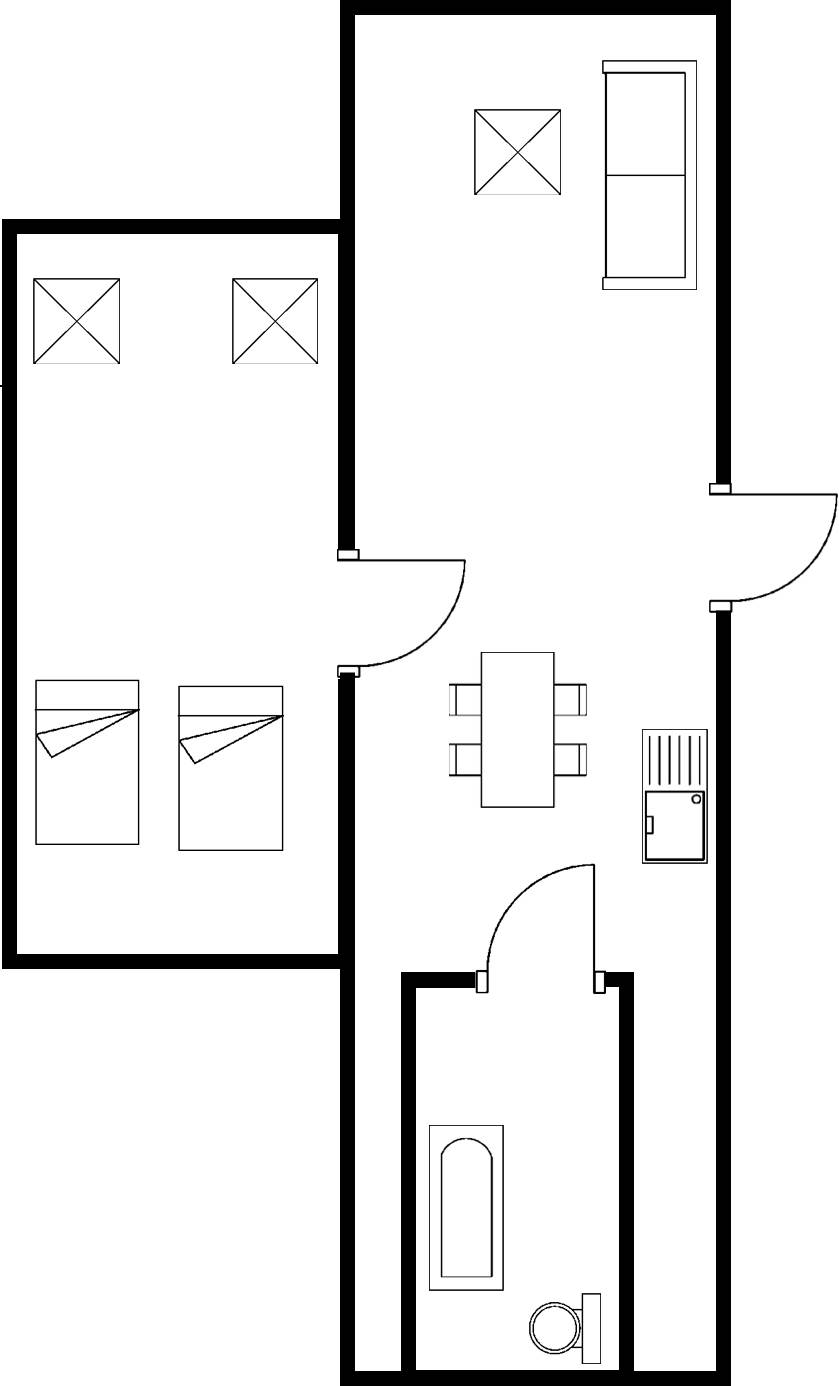bed: (445, 645, 598, 814), (167, 676, 292, 861), (26, 671, 148, 854)
coffee_table: (26, 271, 130, 373), (225, 271, 326, 375), (464, 104, 568, 203)
large_sink: (525, 1283, 607, 1369)
large_sofa: (592, 49, 703, 298)
sink: (634, 722, 713, 872)
tub: (418, 1118, 519, 1303)
